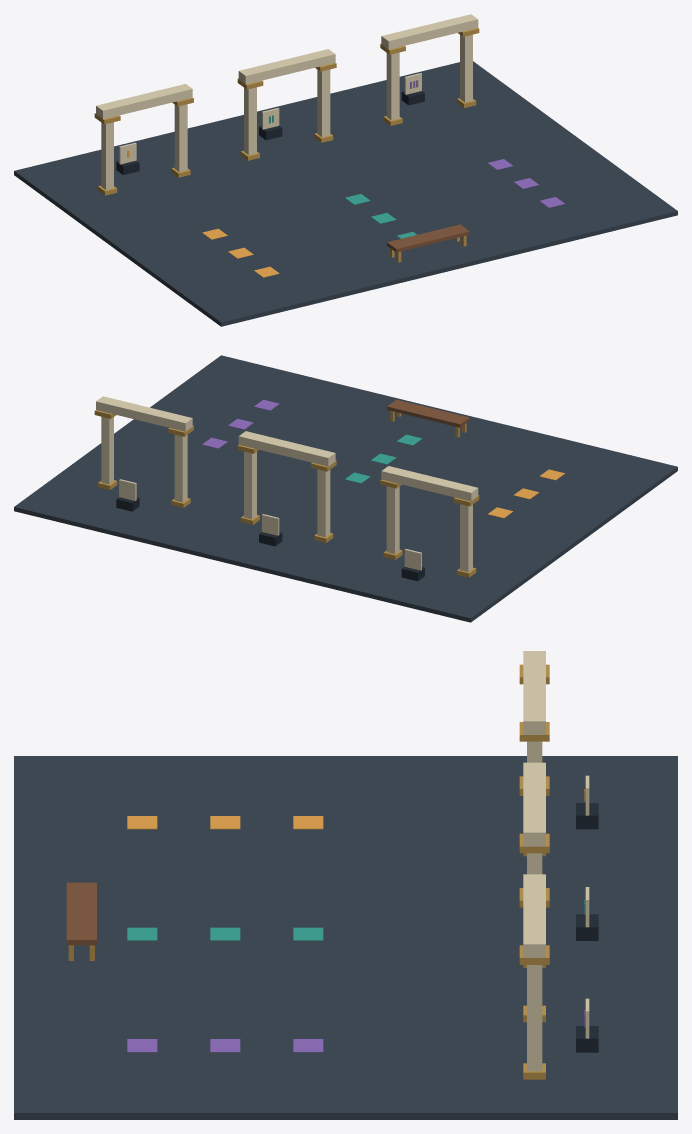
The model's file is three_gates.glb.
The picture shows the model from 3 angles, top to bottom: view 1: azimuth 30°, elevation 25°; view 2: azimuth 150°, elevation 25°; view 3: azimuth 270°, elevation 25°; orthographic projection. The views are drawn at different scales.
Visible parts, largest first — view 1: three_gates; view 2: three_gates; view 3: three_gates.
Boxes of the visible parts, x1,y1,x2,y2 form: three_gates: (14,14,677,326); three_gates: (14,355,677,622); three_gates: (14,651,677,1119).
Bounding box in the file's own units: 112 × 21 × 88.
